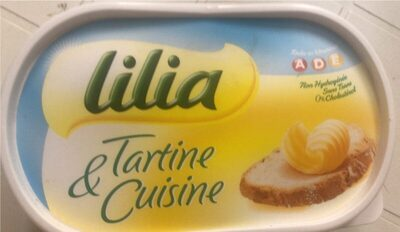Tartine & Cuisine: (20, 12, 380, 220)
